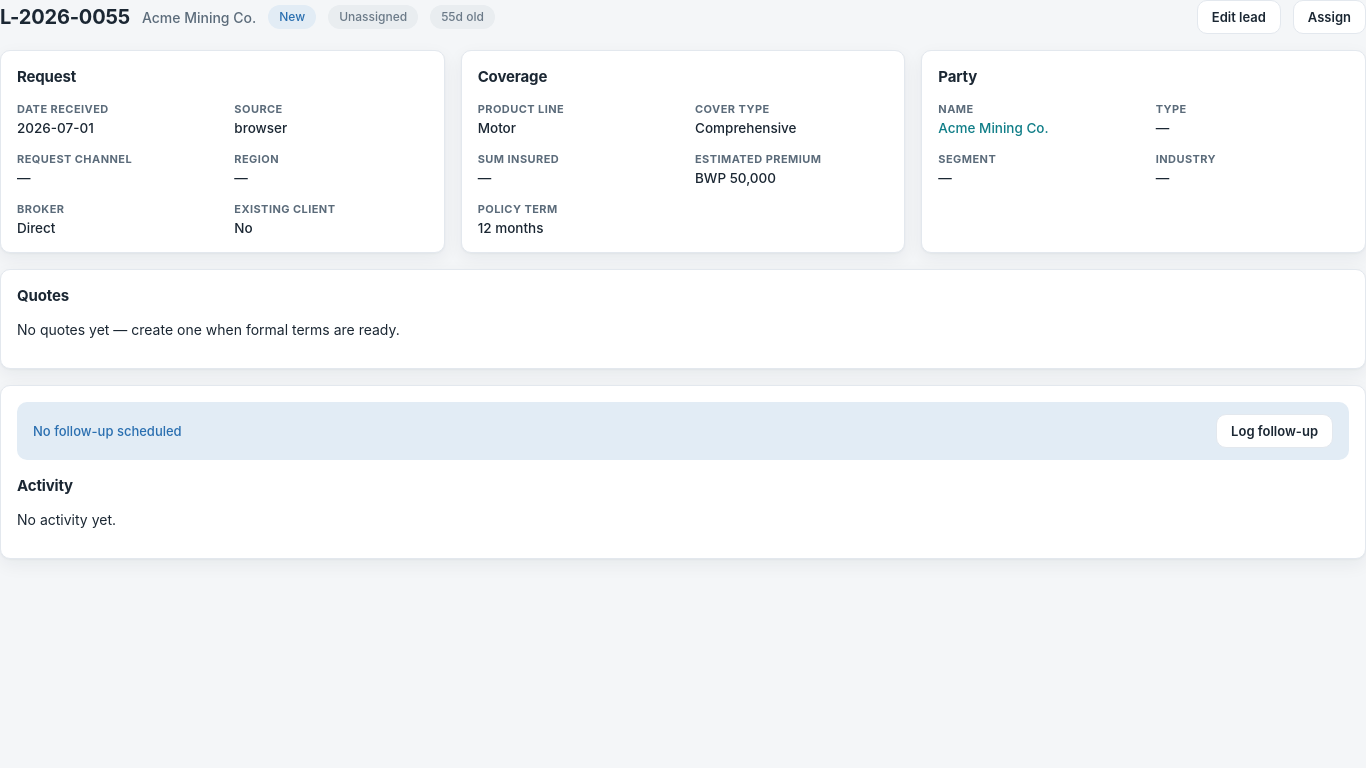
Test: LeadDetailPage › click_WhenAssignConfirmed_ShouldUpdateStatusChipInPlaceAndShowToast
The width and height of the screenshot is (1366, 768).
Click the button with test id "primary-workflow-action": [1329, 17] box [1293,0,1365,34]
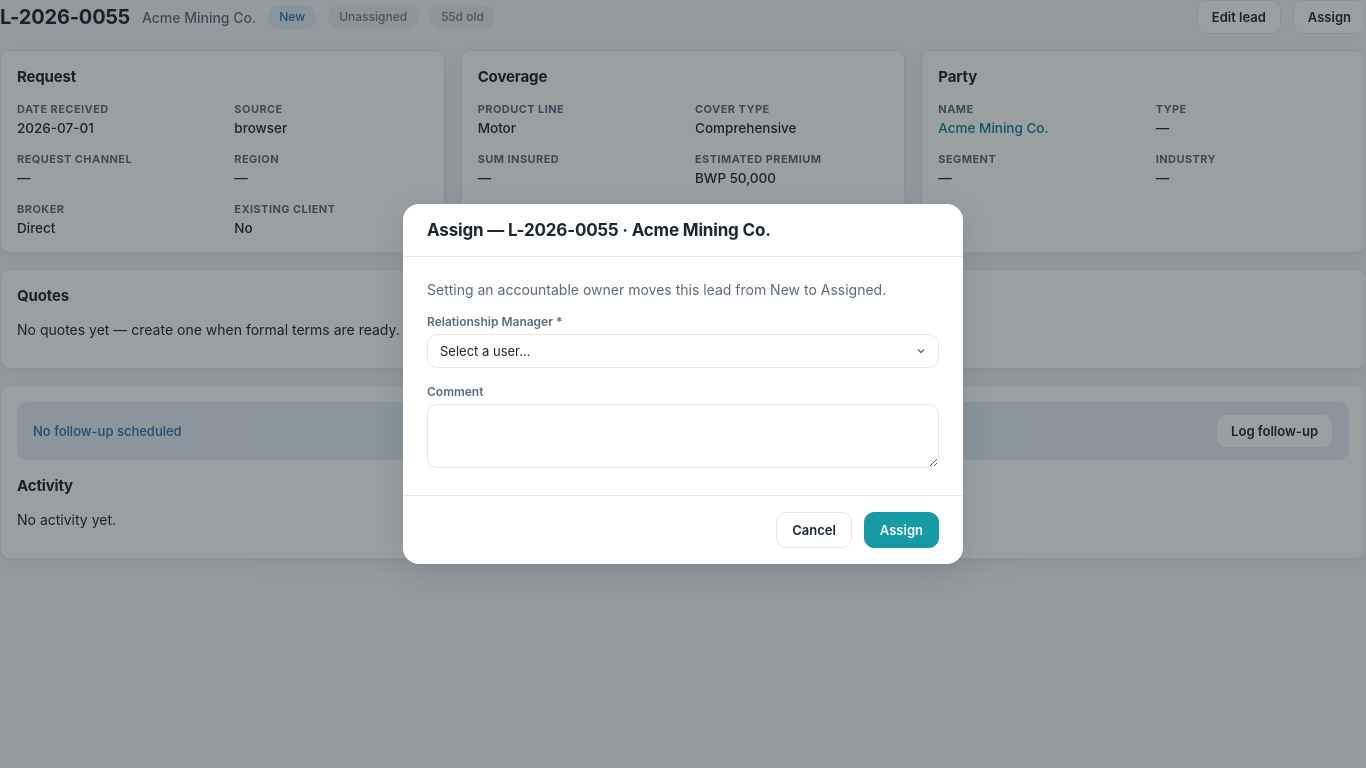
Expected: the element with test id "assign-dialog" is shown
Expected: the dropdown with test id "role-select-accountable-select" is enabled
Select "Sam RM" in the dropdown with test id "role-select-accountable-select": [683, 351] box [427,334,939,368]
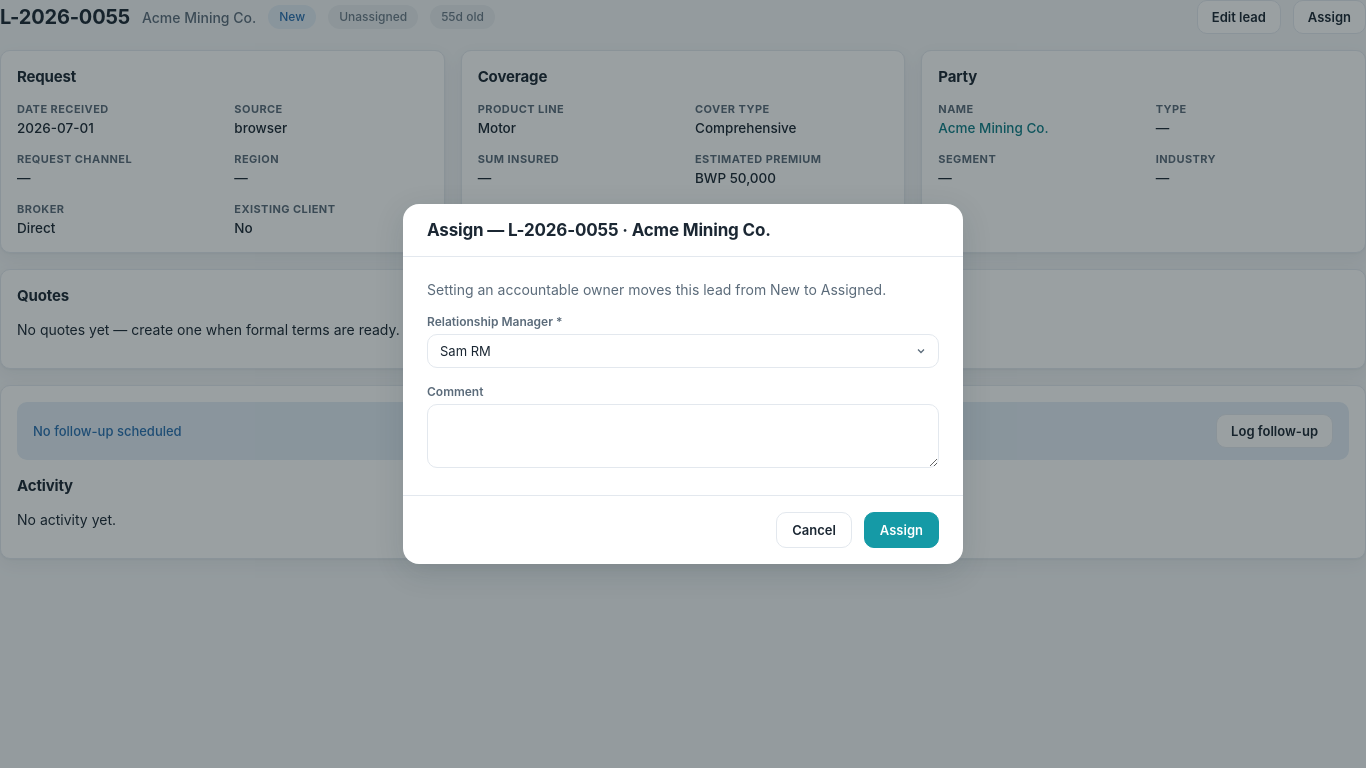
Click the button with test id "dialog-primary-button": [901, 530] box [864,512,939,548]
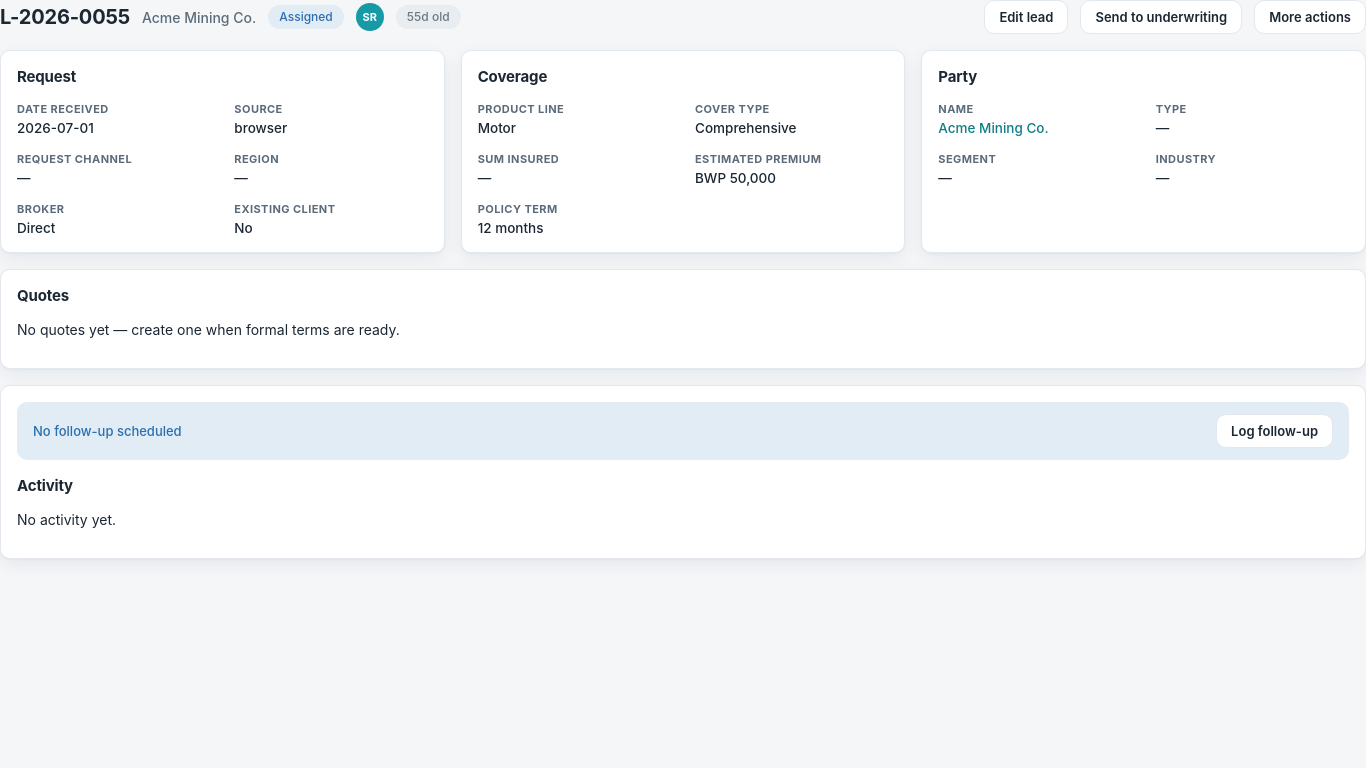
Expected: the element with test id "assign-dialog" is gone
Expected: the text with test id "status-chip" reads "Assigned", [279,9,333,24]
